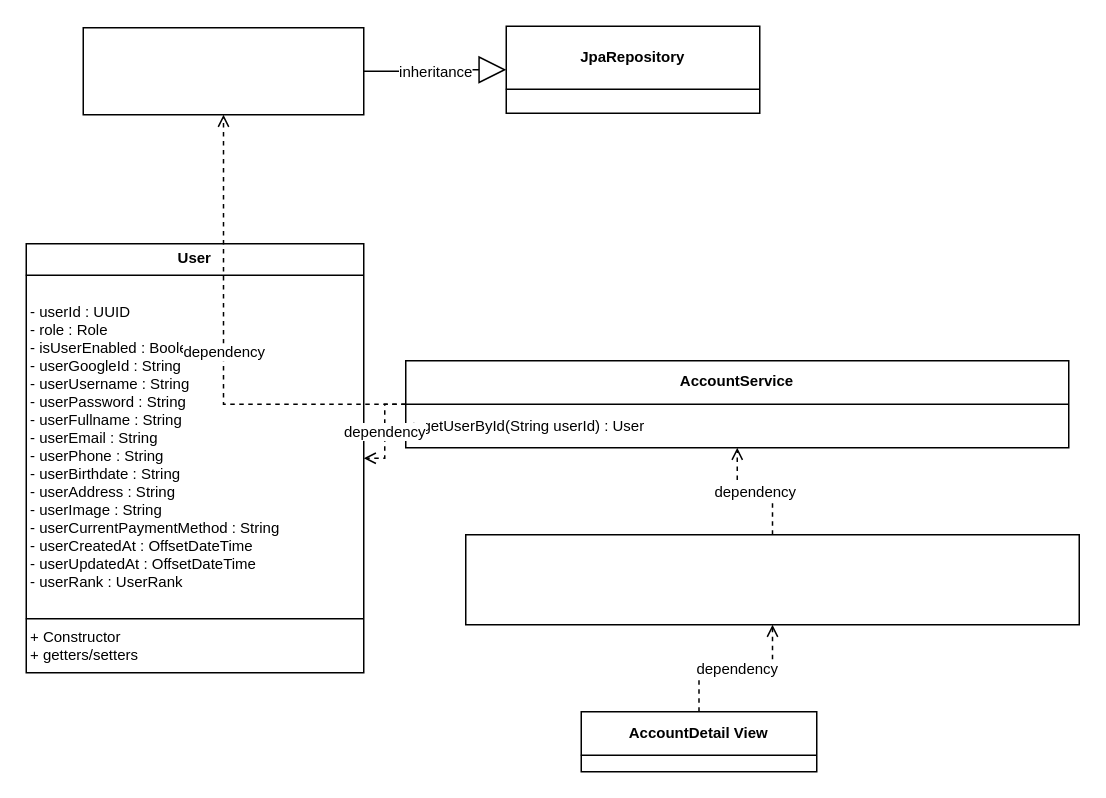
This 1106x798 diagram has some shape labels left out. Each missing label, with the centre of its shape:
AccountRestController + getUserById(String userId) : User: (x=771, y=579)
UserRepository + findById(): (x=223, y=70)
